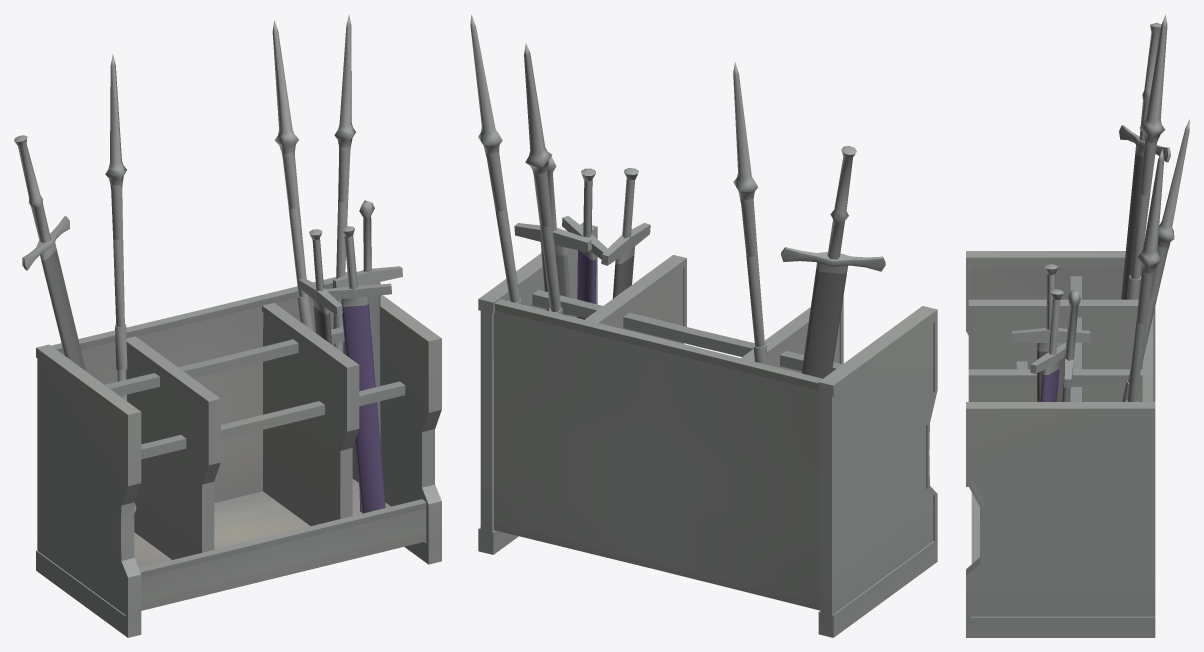
3 views of the same model, side by side, from view 1: azimuth 30°, elevation 25°; view 2: azimuth 150°, elevation 25°; view 3: azimuth 270°, elevation 25° (orthographic). The views are drawn at different scales.
Visible parts, largest first — view 1: G:\FFXIV-MapTools\exports\n4f6\bgcommon\world\itm\050\bgpart; view 2: G:\FFXIV-MapTools\exports\n4f6\bgcommon\world\itm\050\bgpart; view 3: G:\FFXIV-MapTools\exports\n4f6\bgcommon\world\itm\050\bgpart.
Boxes of the visible parts, <box> form: G:\FFXIV-MapTools\exports\n4f6\bgcommon\world\itm\050\bgpart: <box>14,14,441,637</box>; G:\FFXIV-MapTools\exports\n4f6\bgcommon\world\itm\050\bgpart: <box>470,14,937,637</box>; G:\FFXIV-MapTools\exports\n4f6\bgcommon\world\itm\050\bgpart: <box>966,14,1189,637</box>.
Size of the model in its own units: 2.27 by 3.03 by 1.21.
